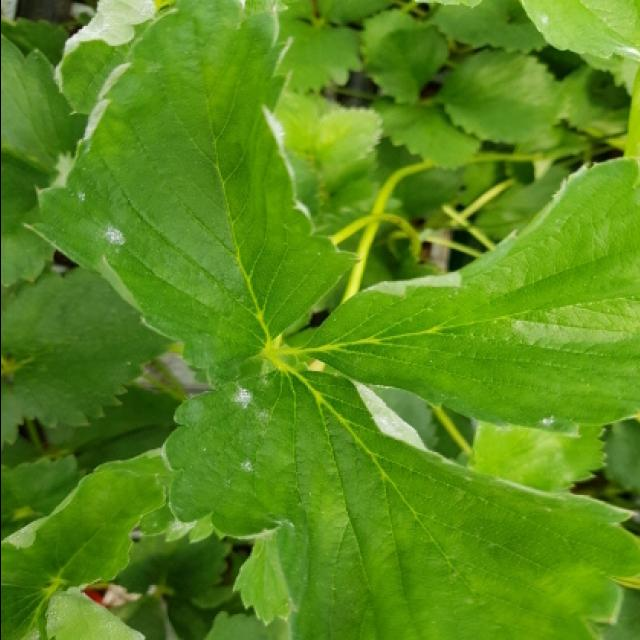Powdery Mildew Leaf: (163, 353, 640, 638), (21, 0, 360, 388), (297, 156, 640, 438), (2, 447, 171, 638), (518, 0, 640, 64)
